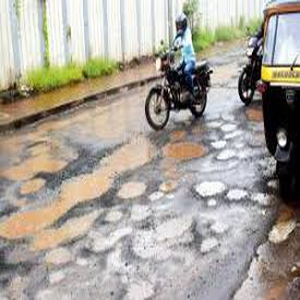pothole: (1, 136, 160, 247), (15, 143, 71, 181), (163, 139, 219, 162), (195, 180, 226, 196), (119, 181, 145, 198)
